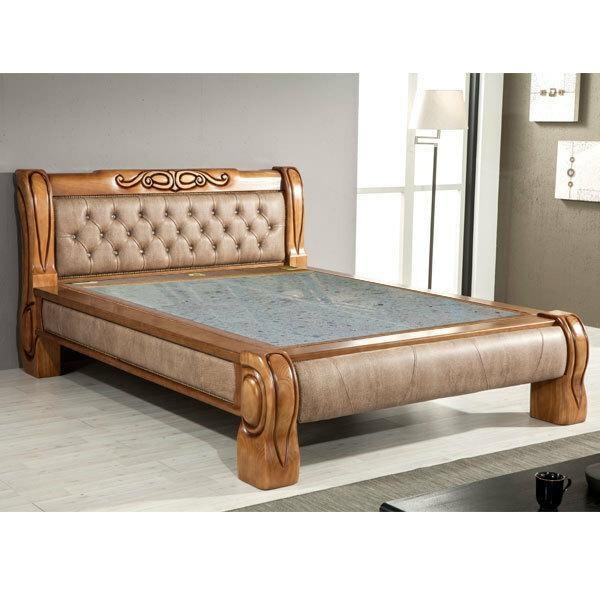Bed-Mattress: (4, 146, 592, 473)
